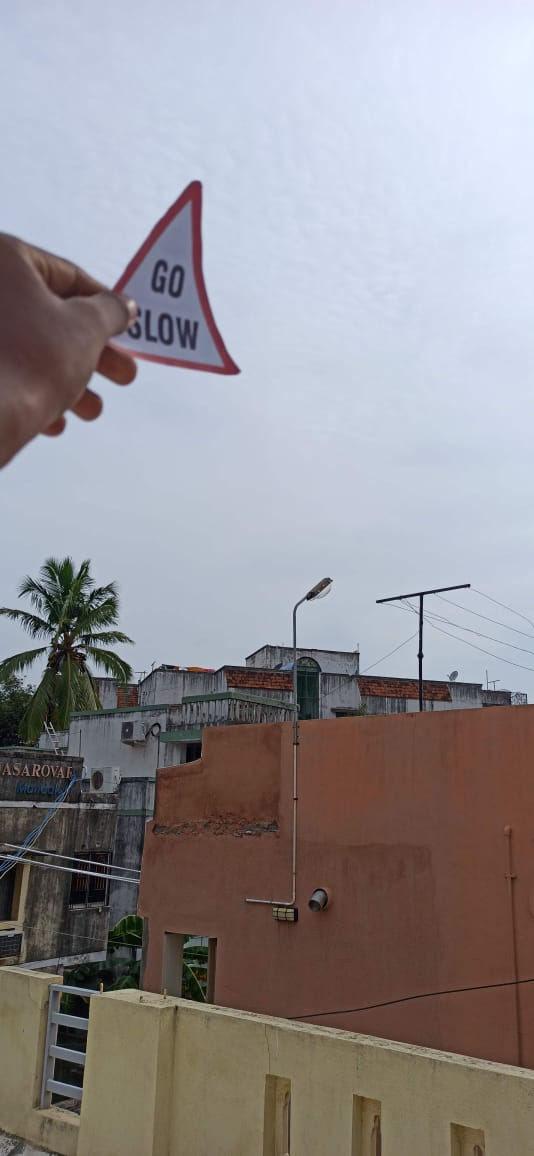GO SLOW: (84, 175, 261, 397)
